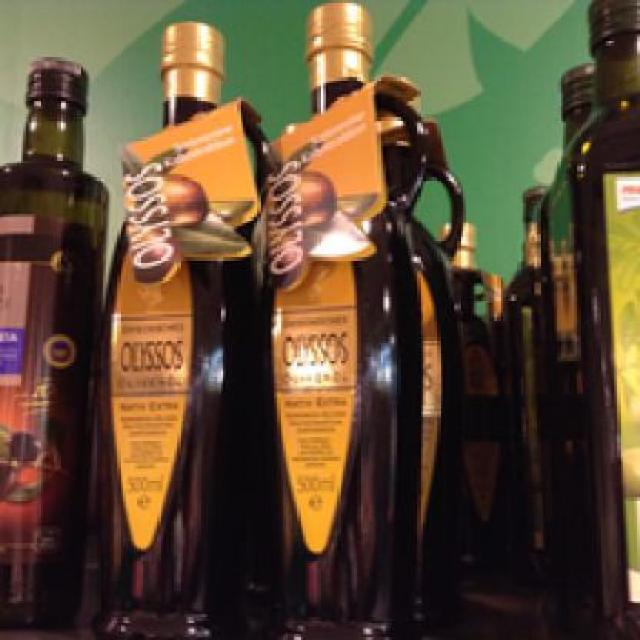Oil: (252, 0, 418, 637), (89, 17, 248, 634), (0, 53, 112, 638)
